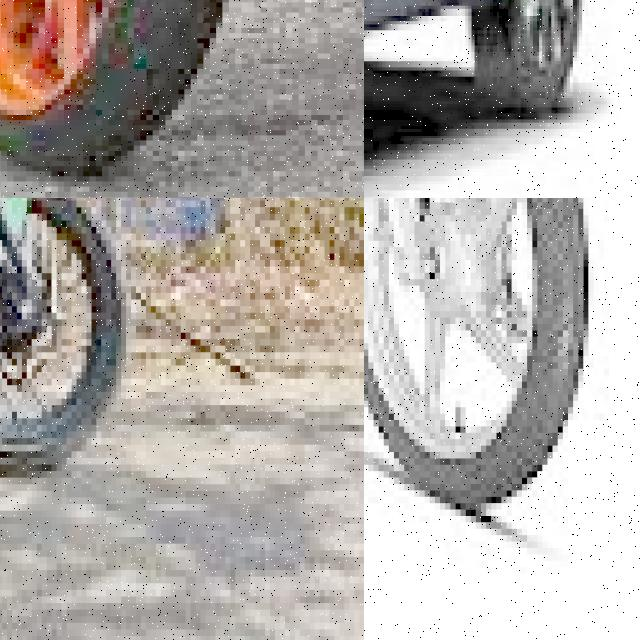bike: (364, 198, 604, 509), (0, 0, 364, 176), (0, 198, 121, 471)
car: (364, 0, 640, 198)
